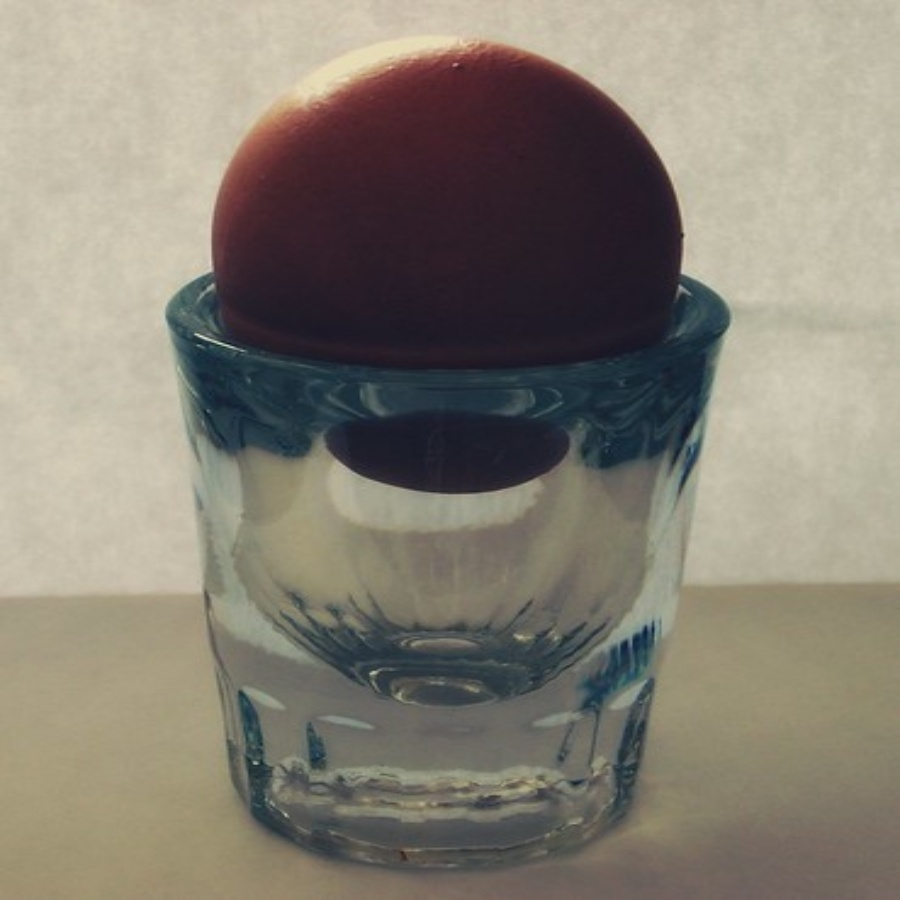whiskey: (185, 240, 733, 846)
